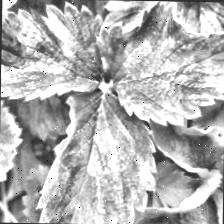Powdery Mildew Leaf: (34, 86, 159, 224)
